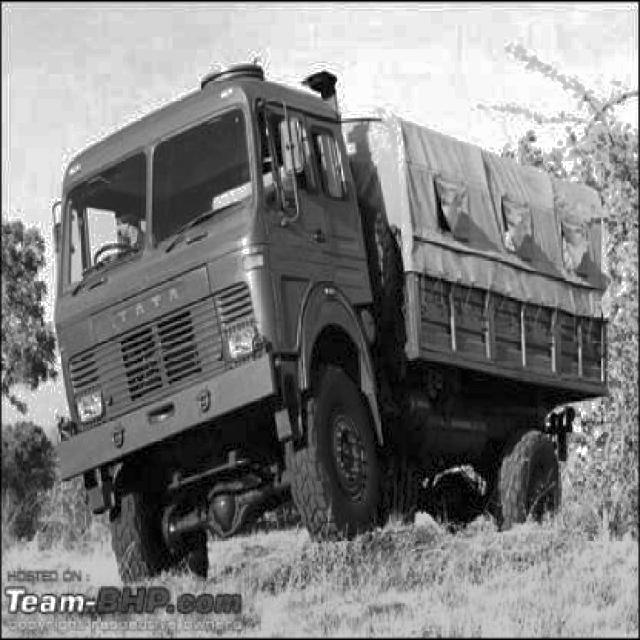HCV: (63, 111, 593, 480)
